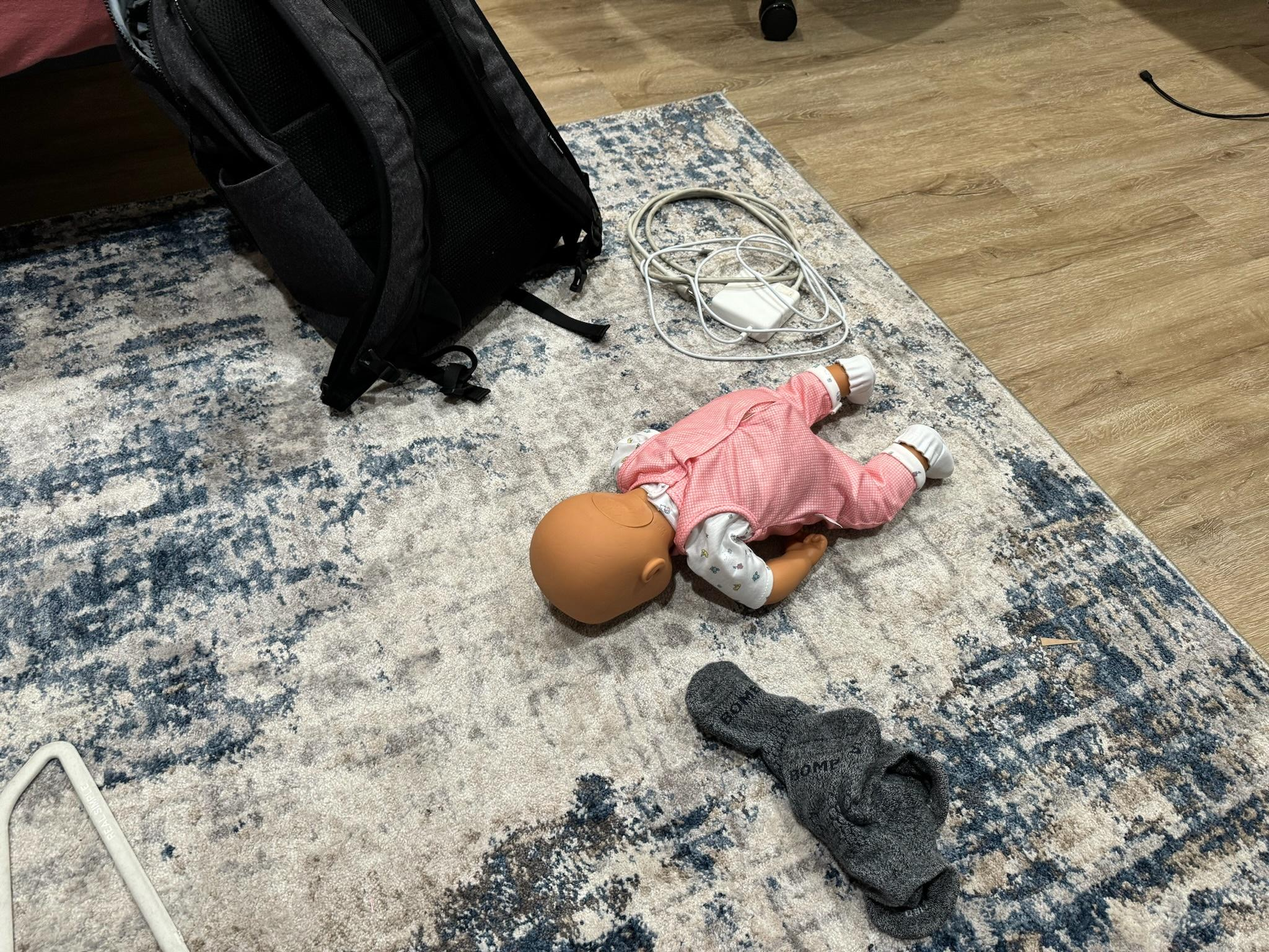baby: (527, 346, 954, 652)
